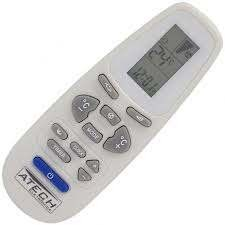remote control: (0, 3, 224, 222)
